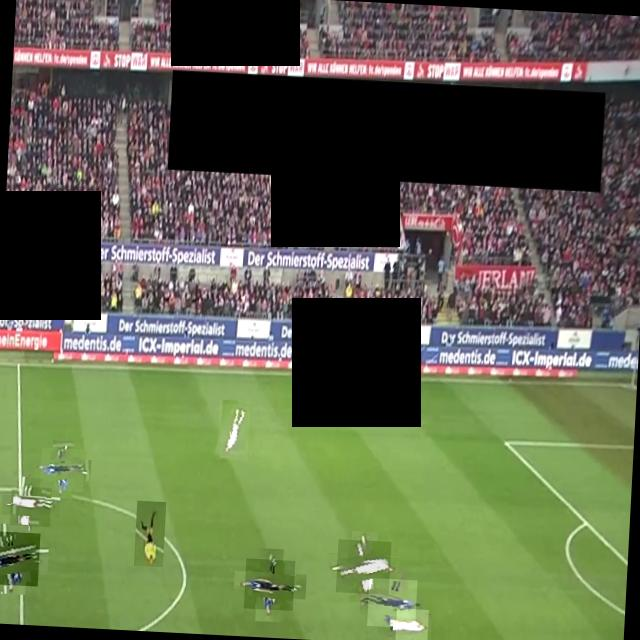referee: (134, 501, 166, 567)
soccer-player: (336, 539, 392, 595), (243, 559, 296, 611), (368, 578, 418, 628), (0, 531, 40, 587), (217, 400, 250, 462), (40, 448, 85, 492), (10, 486, 52, 527), (395, 608, 429, 640)
